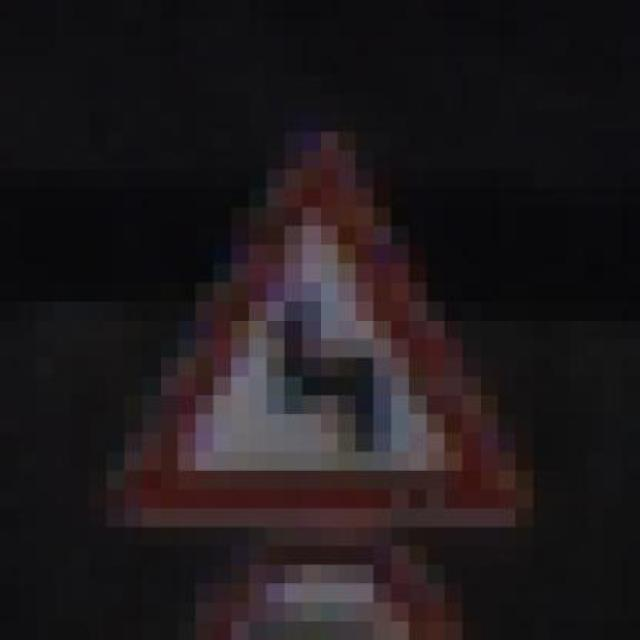Left Zig Zag Traffic: (124, 112, 551, 565)
